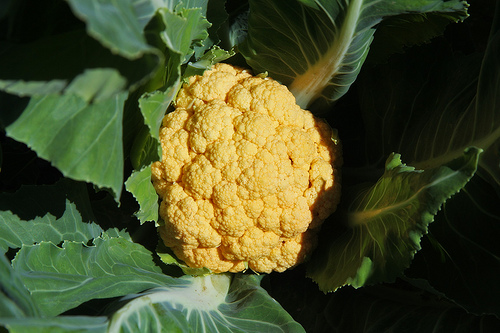cauliflower: (150, 63, 334, 274)
